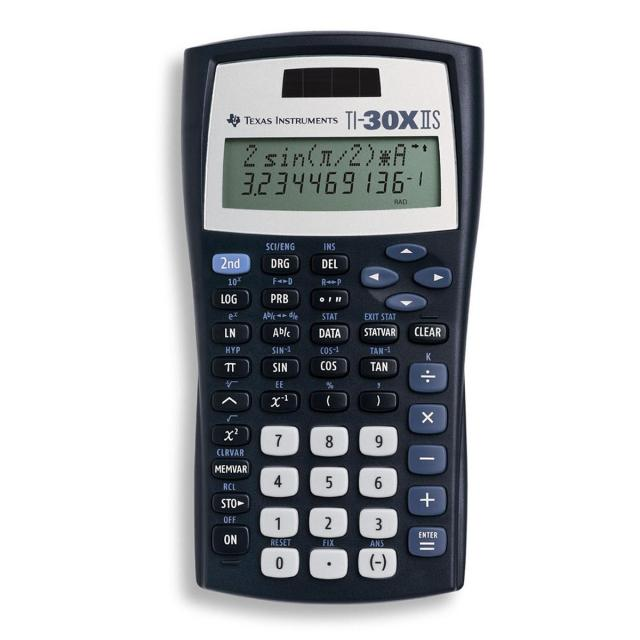Calculator: (117, 9, 544, 633)
